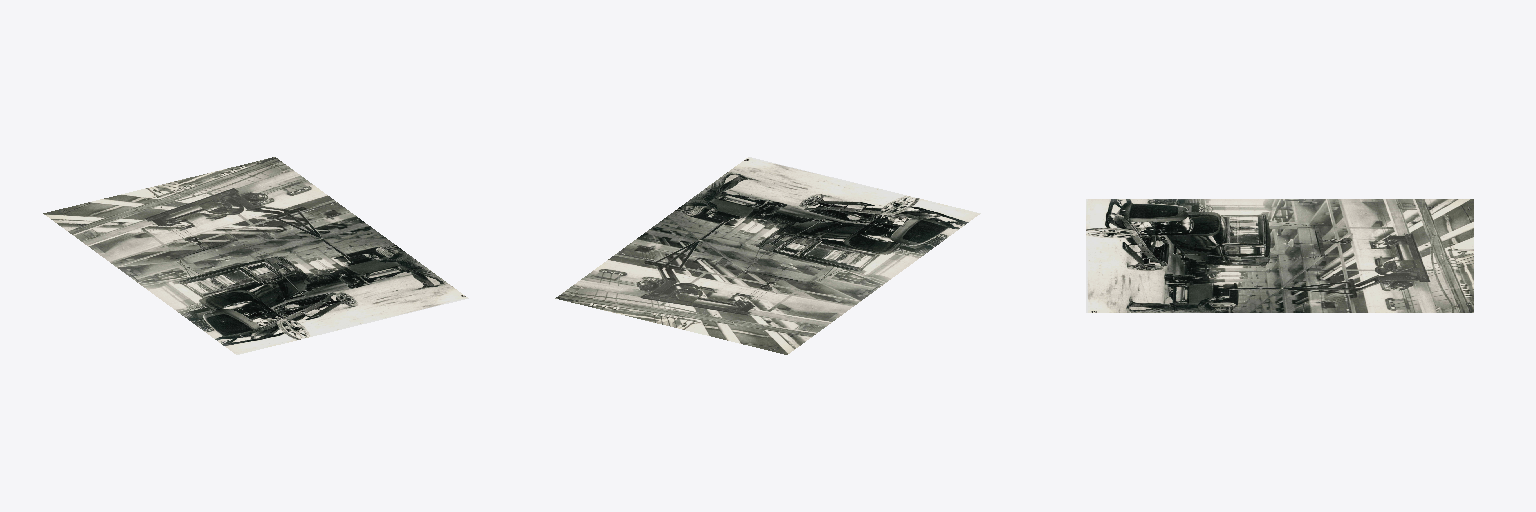
3 views of the same model, side by side, from view 1: azimuth 30°, elevation 25°; view 2: azimuth 150°, elevation 25°; view 3: azimuth 270°, elevation 25° (orthographic).
Parts seen in each view (by area): view 1: Plane001; view 2: Plane001; view 3: Plane001.
Part boxes in pixels (left/top/right/bottom): Plane001: left=43, top=157, right=468, bottom=354; Plane001: left=555, top=157, right=980, bottom=354; Plane001: left=1086, top=199, right=1473, bottom=312.
Bounding box in the file's own units: 2.7 × 0 × 3.89.
1 materials, 1 textured.